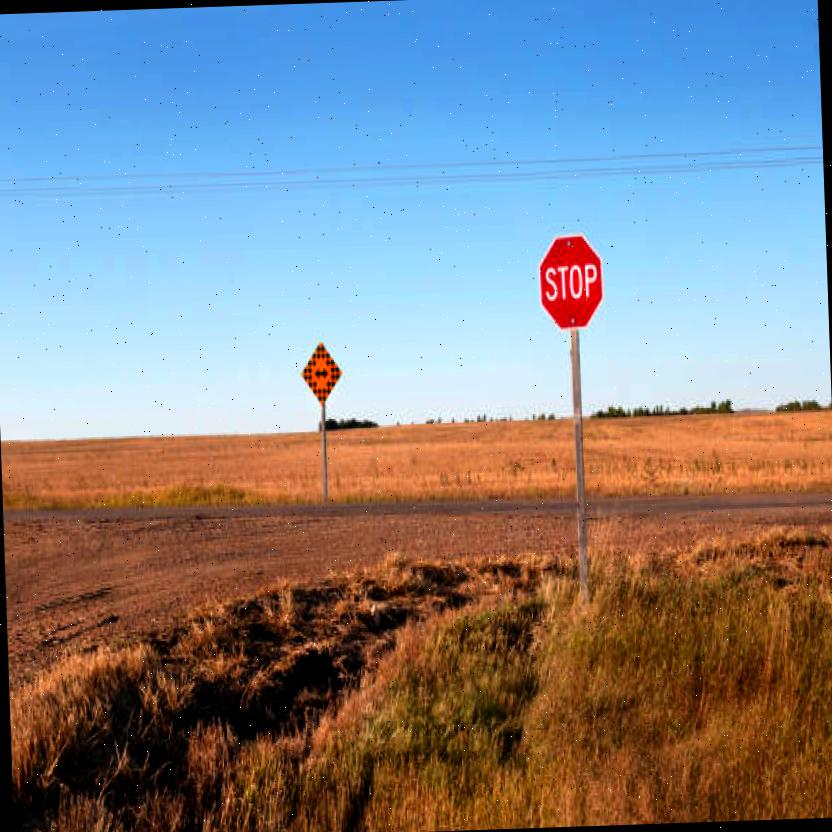Pole: (568, 328, 591, 598), (320, 405, 329, 500)
Sign: (536, 233, 605, 331)
